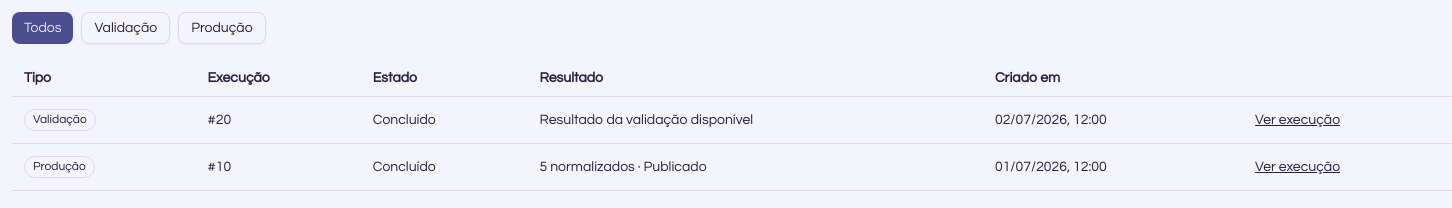
Test: CrawlHistoryPanel › unifies validation operations with production runs and filters by type
Expected: the text "5 normalizados · Publicado" is shown, [528, 144, 983, 190]
Click the button "Validação" at (126, 28), box [81, 12, 170, 44]
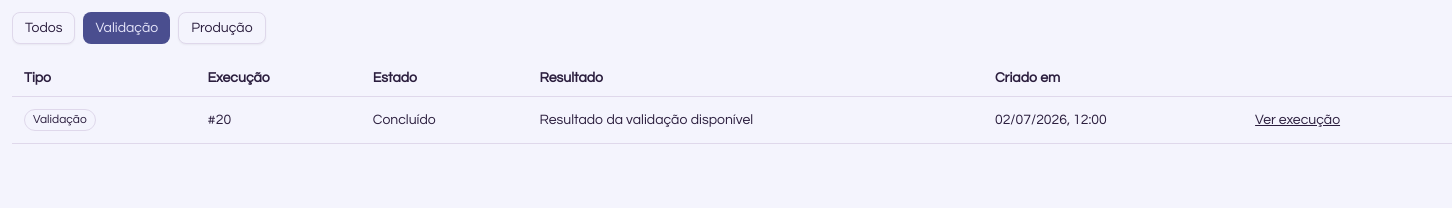
Expected: the text "Resultado da validação disponível" is shown, [528, 96, 983, 144]
Expected: the text "5 normalizados · Publicado" is gone
